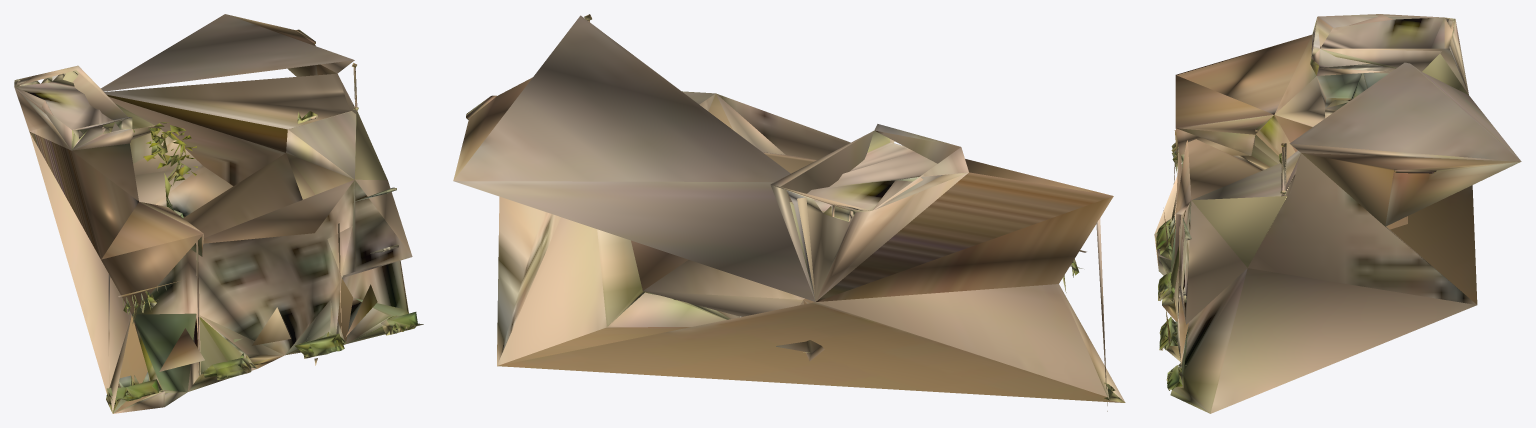
File: townhouses_far.glb
3 views of the same model, side by side, from view 1: azimuth 30°, elevation 25°; view 2: azimuth 150°, elevation 25°; view 3: azimuth 270°, elevation 25° (orthographic). The views are drawn at different scales.
Visible parts, largest first — view 1: tripo_node_b53895cc-9060-4ea7-8710-ad2addbc653a; view 2: tripo_node_b53895cc-9060-4ea7-8710-ad2addbc653a; view 3: tripo_node_b53895cc-9060-4ea7-8710-ad2addbc653a.
Boxes of the visible parts, x1,y1,x2,y2 form: tripo_node_b53895cc-9060-4ea7-8710-ad2addbc653a: [14, 14, 423, 413]; tripo_node_b53895cc-9060-4ea7-8710-ad2addbc653a: [453, 14, 1125, 411]; tripo_node_b53895cc-9060-4ea7-8710-ad2addbc653a: [1154, 14, 1521, 413].
Bounding box in the file's own units: 32 × 22.71 × 29.04.
Materials: 1 (1 with a texture image).
